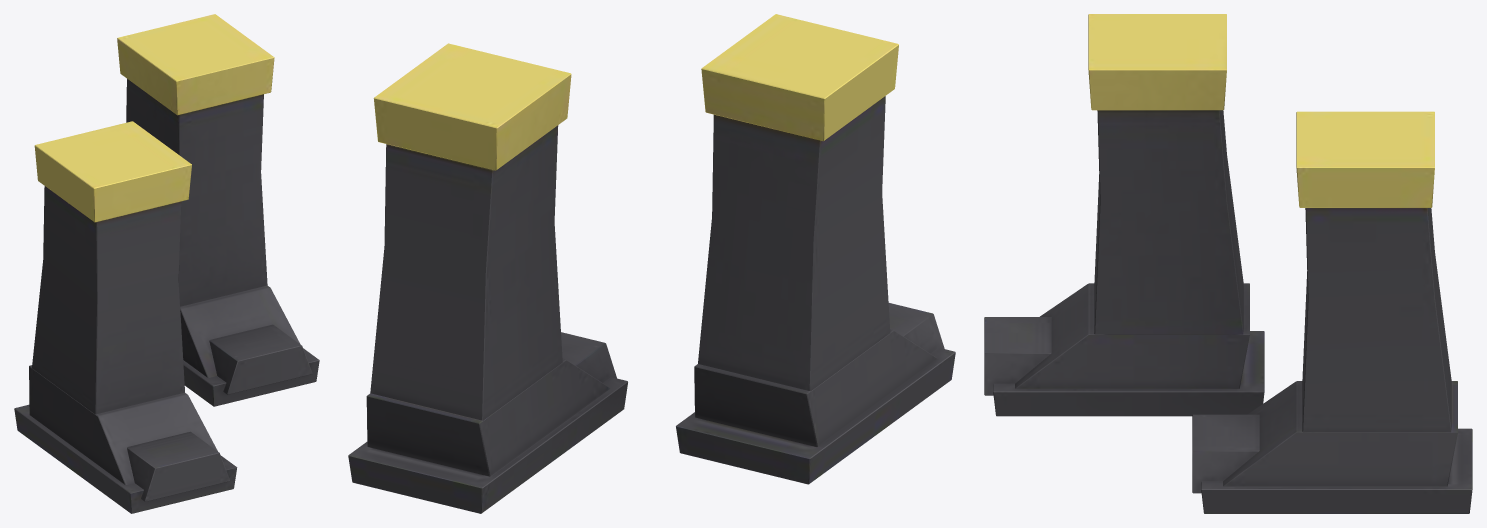
File: IT_boots_rubber.glb
3 views of the same model, side by side, from view 1: azimuth 30°, elevation 25°; view 2: azimuth 150°, elevation 25°; view 3: azimuth 270°, elevation 25° (orthographic). The views are drawn at different scales.
Visible parts, largest first — view 1: IT_boots_rubber; view 2: IT_boots_rubber; view 3: IT_boots_rubber.
Boxes of the visible parts, bbox=[...] form: IT_boots_rubber: bbox=[14, 14, 319, 513]; IT_boots_rubber: bbox=[348, 14, 955, 513]; IT_boots_rubber: bbox=[984, 14, 1472, 513].
Bounding box in the file's own units: 0.6498 × 0.66 × 0.8449.
Materials: 1 (1 with a texture image).
